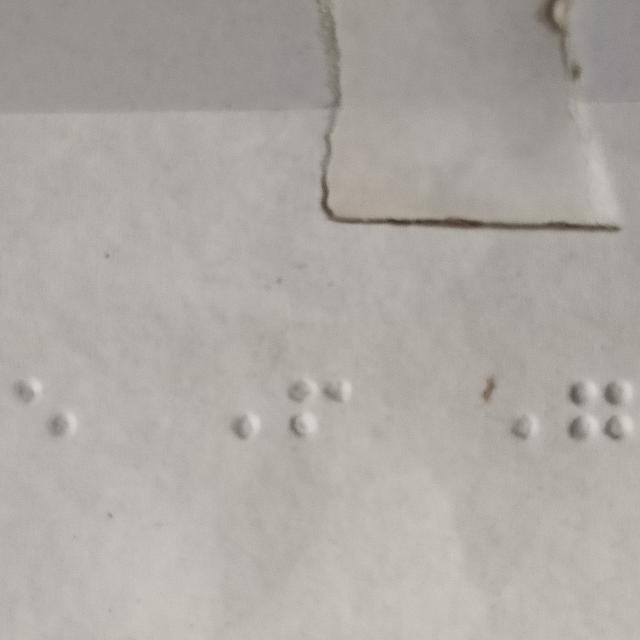dot_5: (470, 378, 539, 481), (195, 376, 264, 478)
two_cell_alphabet_gunita: (566, 377, 635, 479)
two_cell_alphabet_papaano: (287, 374, 356, 476)
